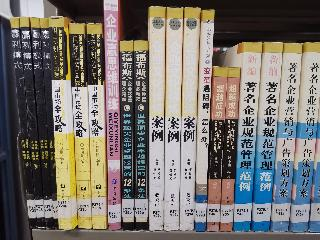book-spine: (229, 39, 264, 232), (270, 43, 303, 233), (251, 40, 282, 233), (10, 18, 38, 229), (290, 42, 320, 234), (18, 17, 45, 230), (177, 7, 202, 232), (28, 18, 54, 230), (160, 7, 184, 231), (48, 15, 72, 231), (69, 23, 93, 229), (192, 9, 214, 232), (146, 5, 167, 233), (102, 2, 122, 229), (203, 66, 230, 232), (86, 22, 107, 231), (40, 19, 58, 230), (219, 66, 241, 232), (118, 39, 136, 231), (133, 40, 149, 232)
